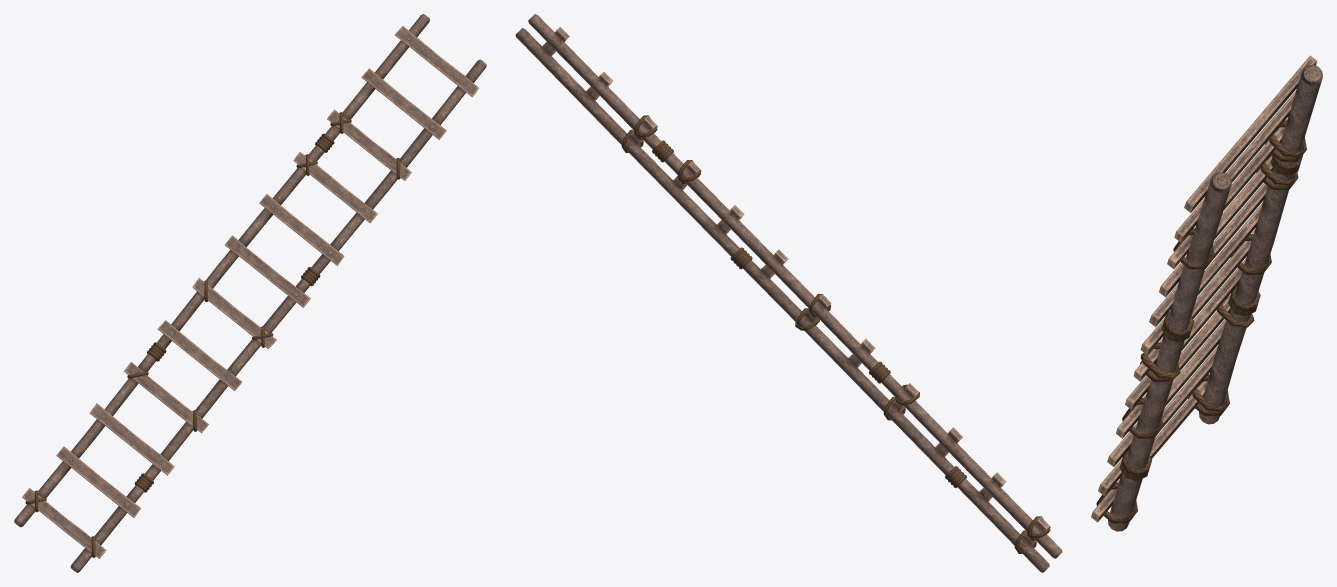
3 renders of one model, left to right at view 1: azimuth 30°, elevation 25°; view 2: azimuth 150°, elevation 25°; view 3: azimuth 270°, elevation 25°, orthographic. The views are drawn at different scales.
Parts seen in each view (by area): view 1: ladder; view 2: ladder; view 3: ladder.
Boxes of the visible parts, <box> form: ladder: <box>14,14,486,572</box>; ladder: <box>515,14,1062,572</box>; ladder: <box>1091,55,1322,531</box>.
Size of the model in its own units: 362 by 311 by 76.81.
1 material, 1 textured.
